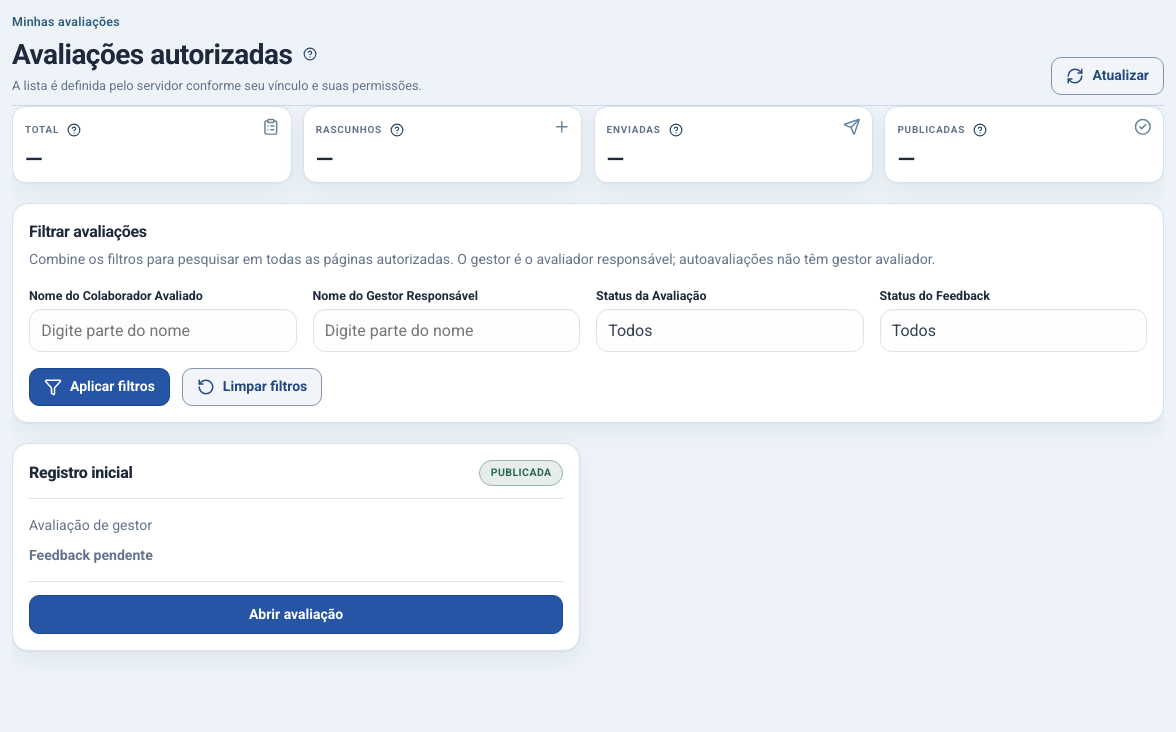
Filtros de avaliações autorizadas › trata falha de sessão da busca atual
Expected: the heading "Registro inicial" is shown, [29,463,132,482]
Type "Ana" into the search field labelled "Nome do Colaborador Avaliado". click: (163, 331)
box: [29,309,296,352]
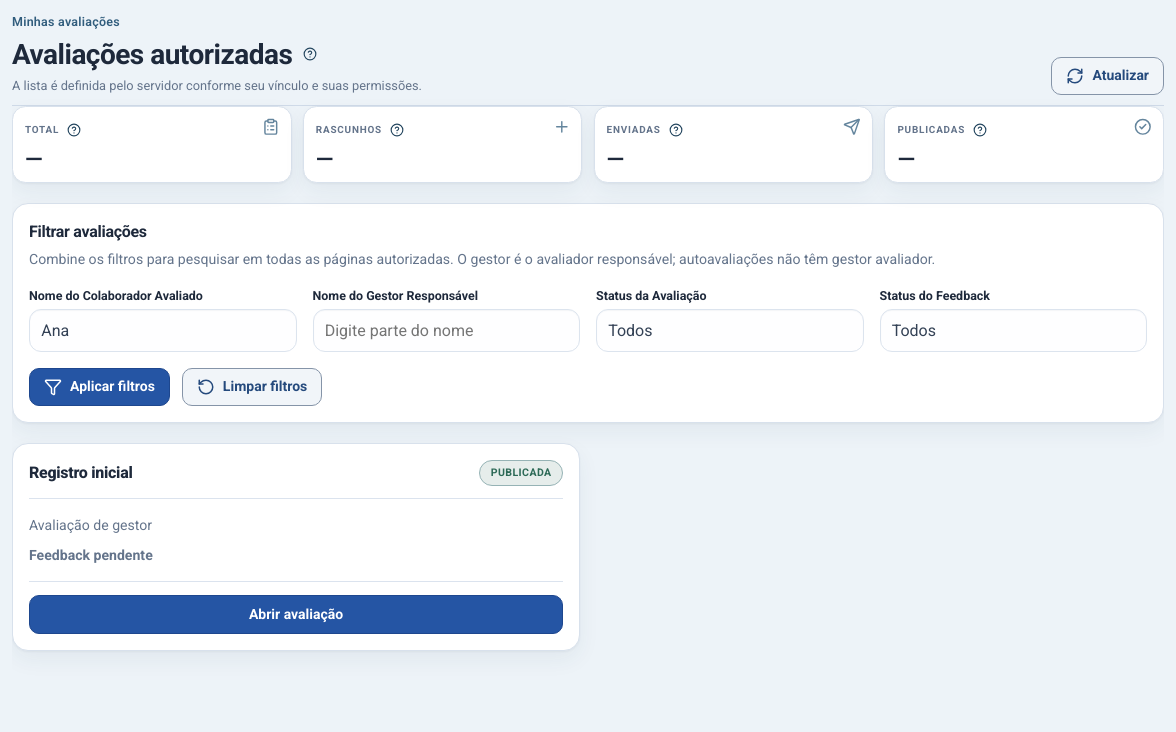
Click the button "Aplicar filtros". click: (99, 387)
box: [29,368,170,406]
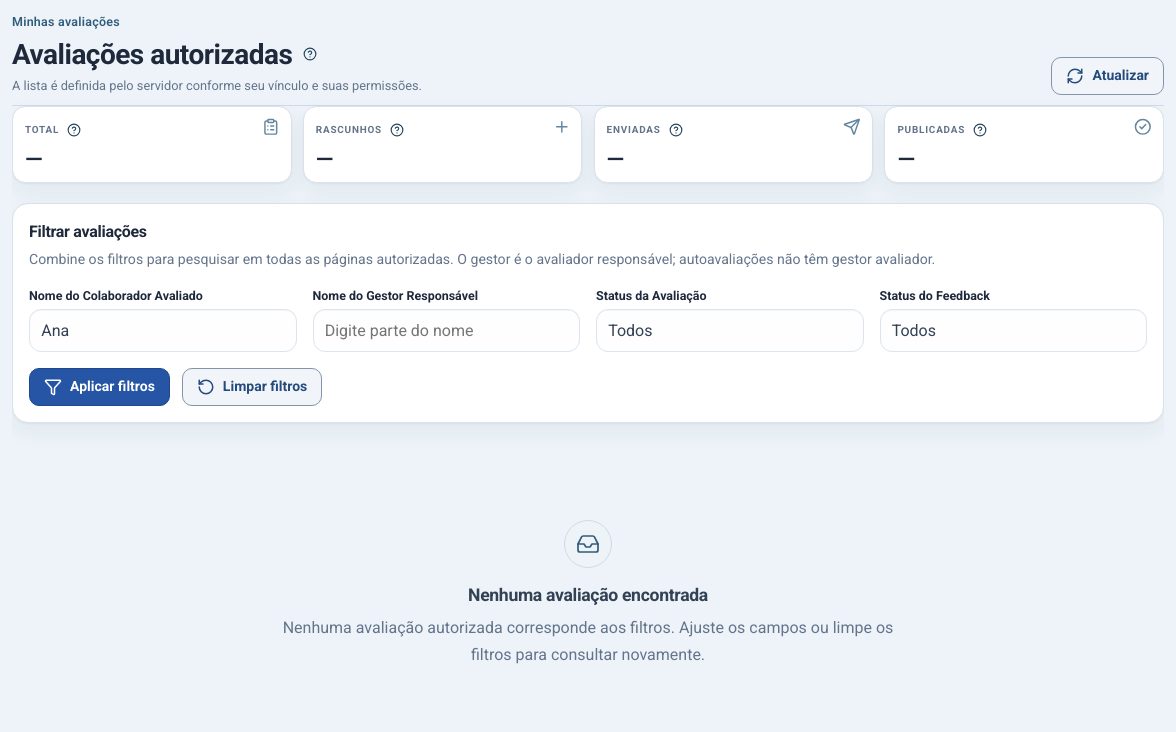
Result: the heading "Registro inicial" is gone
